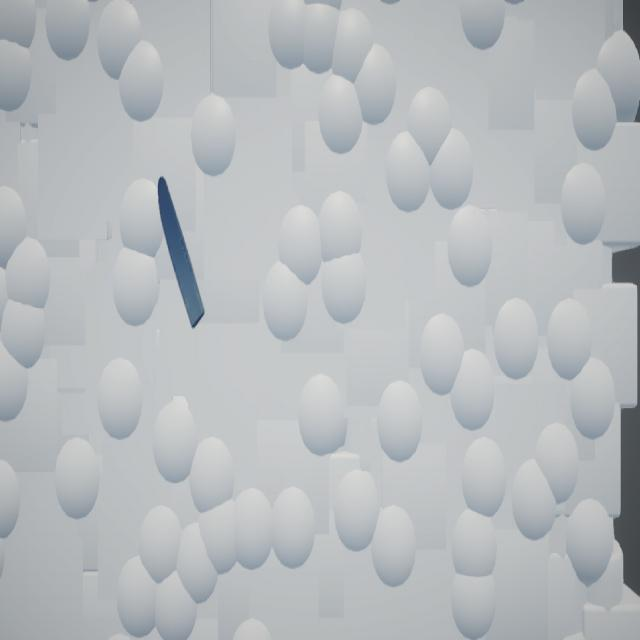top_knife: (158, 177, 206, 331)
